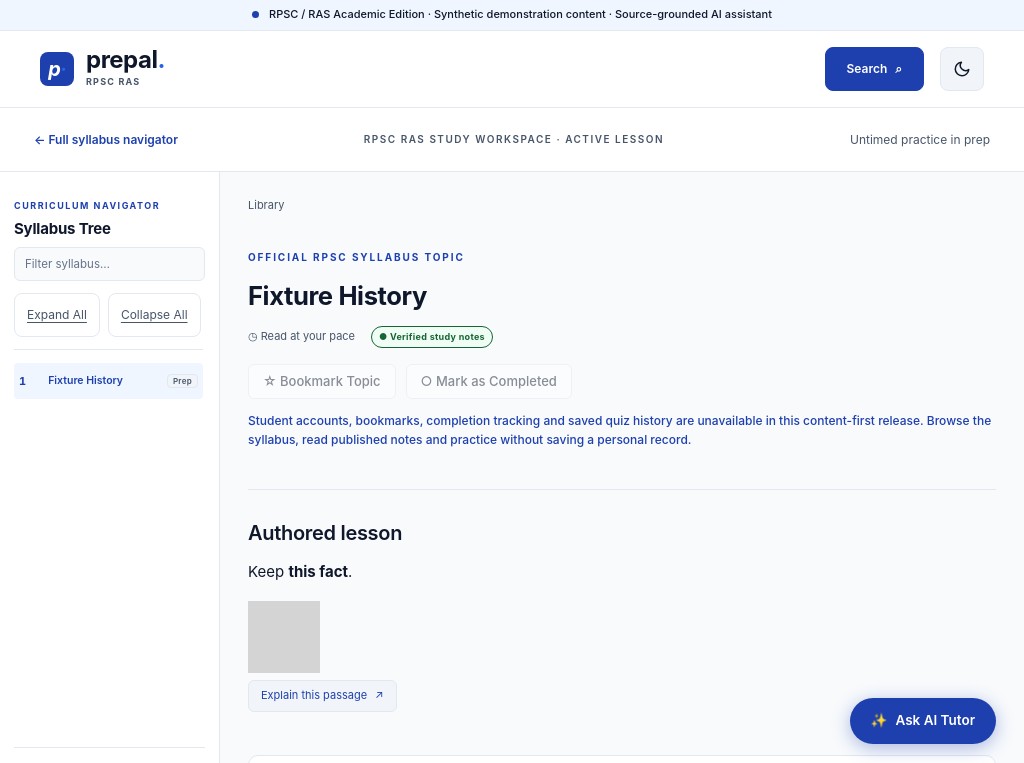
Test: renders chatbot Markdown tables without interpreting raw HTML
Expected: the heading "Authored lesson" is shown, x1=248 y1=521 x2=402 y2=545
Click the button "✨ Ask AI Tutor": (923, 721) x1=850 y1=698 x2=996 y2=744
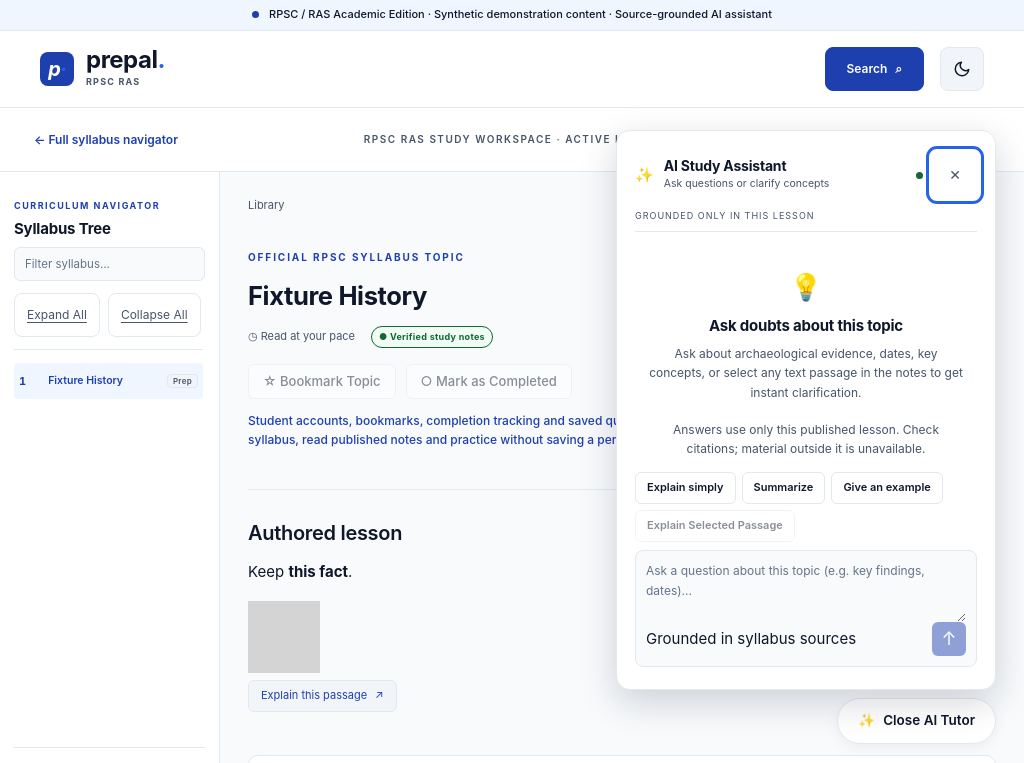
In the text box named "Ask the tutor": (806, 591) x1=646 y1=561 x2=966 y2=622, type "Explain"
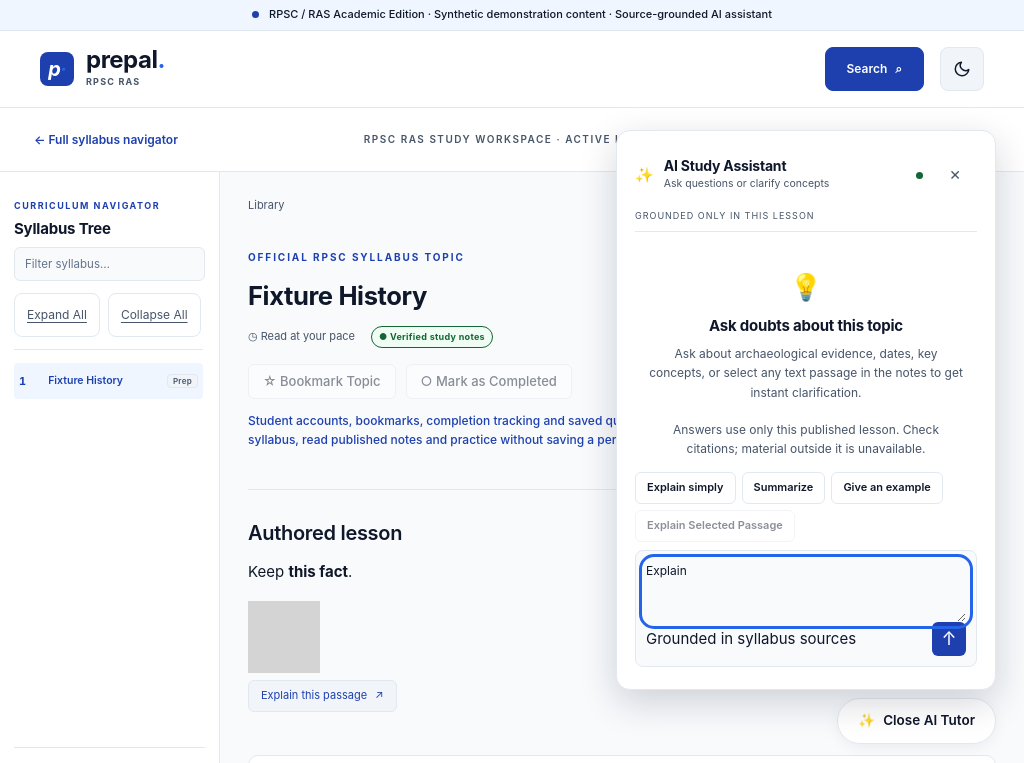
Click the button named "Send question": (949, 639) x1=932 y1=622 x2=966 y2=656
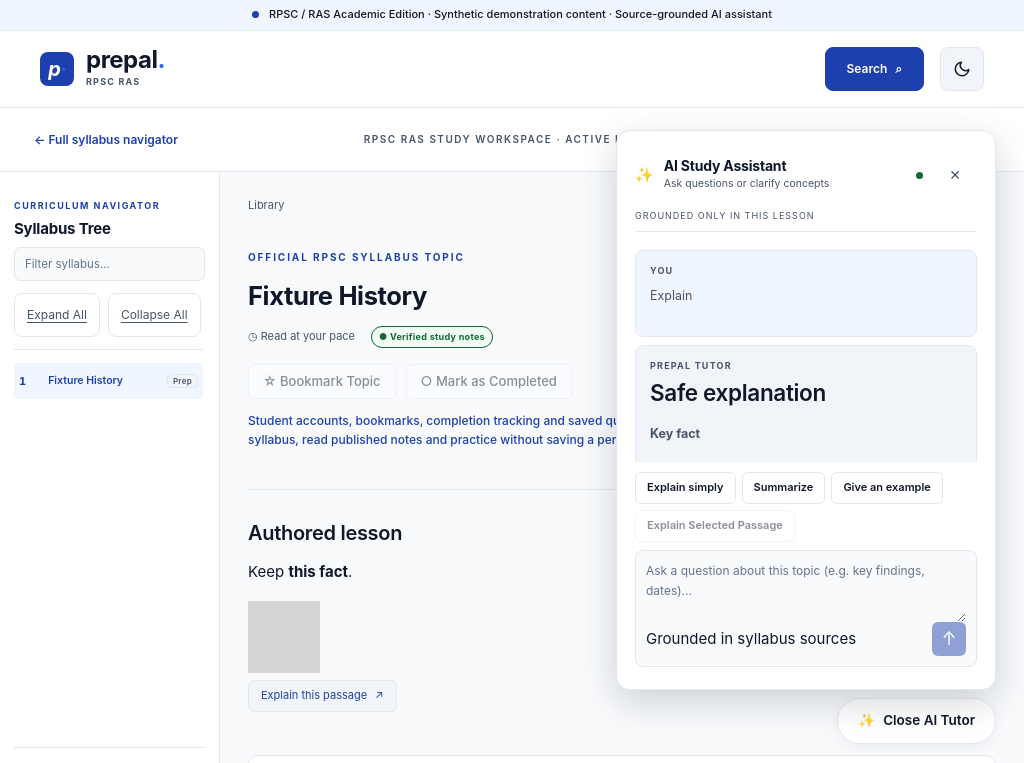
Result: the heading "Safe explanation" is shown at x1=650 y1=379 x2=826 y2=406
